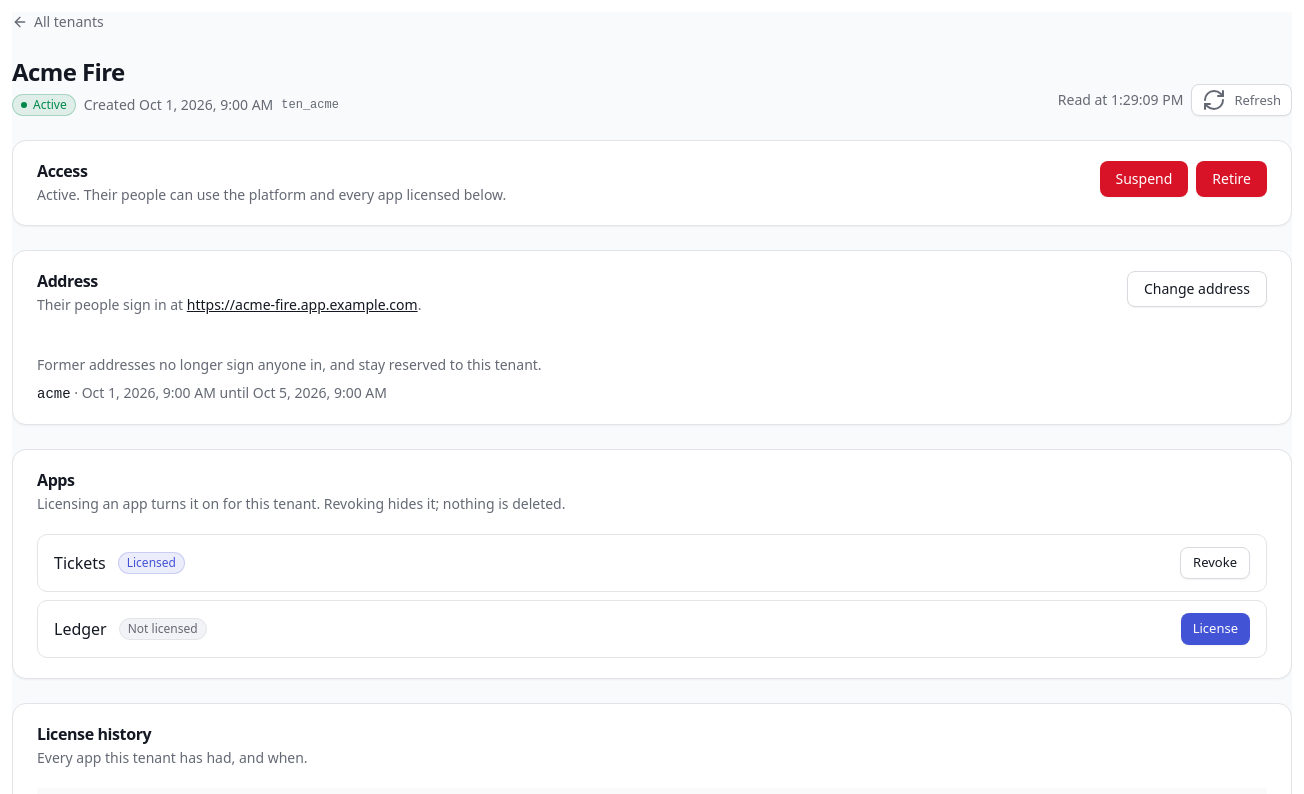
a tenant's page › keeps what it showed, marked as possibly stale, when reading again fails
Click the button "Refresh" at x=1242, y=100, box [1191,84,1292,116]
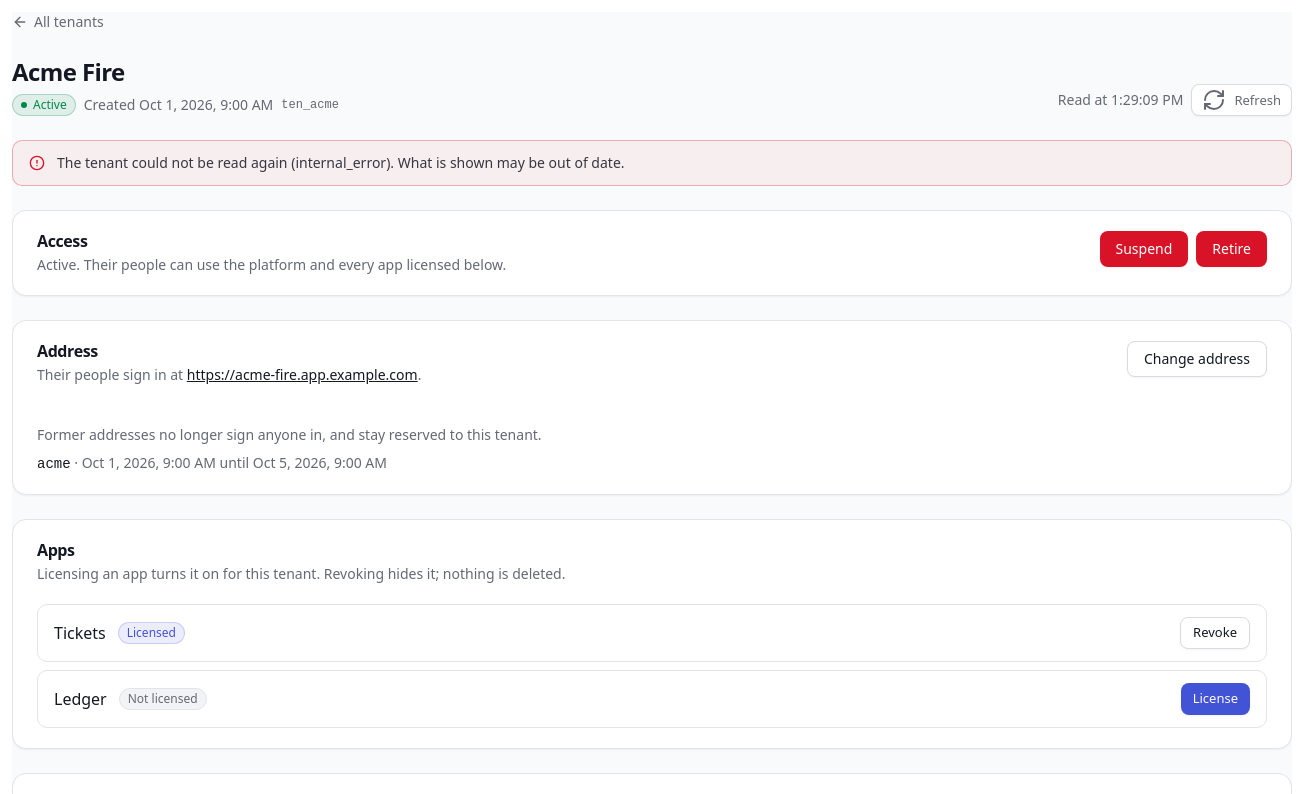
Expected: the heading "Acme Fire" is shown, [12,55,125,88]
Expected: the message shows "may be out of date", [386,153,624,172]
